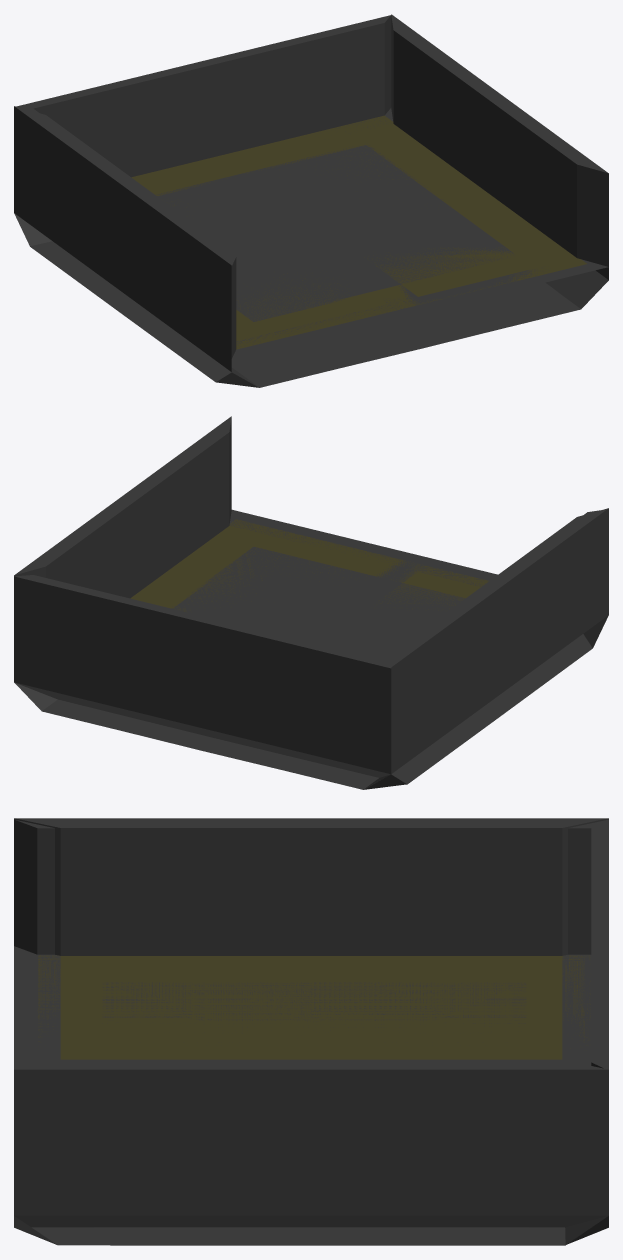
The model's file is ProloguePlatformPack.fbx.
The picture shows the model from 3 angles, top to bottom: view 1: azimuth 30°, elevation 25°; view 2: azimuth 150°, elevation 25°; view 3: azimuth 270°, elevation 25°; orthographic projection. The views are drawn at different scales.
Parts seen in each view (by area): view 1: Platform[L], Platform[II], Platform[T], Platform[+]; view 2: Platform[L], Platform[II], Platform[+], Platform[T]; view 3: Platform[II], Platform[L], Platform[+].
Boxes of the visible parts, <box> form: Platform[L]: <box>14,15,608,387</box>; Platform[II]: <box>14,14,608,386</box>; Platform[T]: <box>14,61,586,358</box>; Platform[+]: <box>16,113,578,387</box>; Platform[L]: <box>14,509,608,774</box>; Platform[II]: <box>14,416,608,789</box>; Platform[+]: <box>21,512,608,789</box>; Platform[T]: <box>137,532,483,784</box>; Platform[II]: <box>14,818,608,1227</box>; Platform[L]: <box>14,819,608,1245</box>; Platform[+]: <box>14,947,608,1245</box>.
Size of the model in its own units: 200 by 65.64 by 200.
